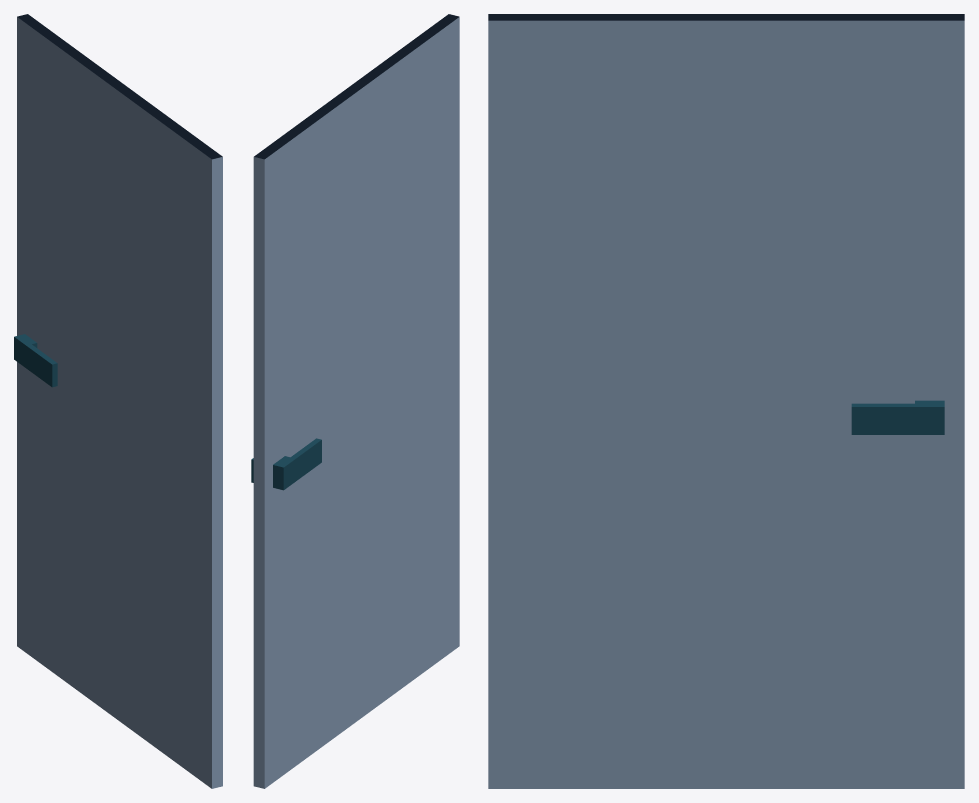
The model's file is Porte_Double.FBX.
The picture shows the model from 3 angles, left to right: view 1: azimuth 30°, elevation 25°; view 2: azimuth 150°, elevation 25°; view 3: azimuth 270°, elevation 25°; orthographic projection. The views are drawn at different scales.
Visible parts, largest first — view 1: Porte_Double_R; view 2: Porte_Double_R; view 3: Porte_Double_R.
Boxes of the visible parts, x1=… form: Porte_Double_R: x1=14, y1=14, x2=222, y2=788; Porte_Double_R: x1=251, y1=14, x2=459, y2=788; Porte_Double_R: x1=488, y1=14, x2=964, y2=788.
Size of the model in its own units: 0.1179 by 2.18 by 1.22.
